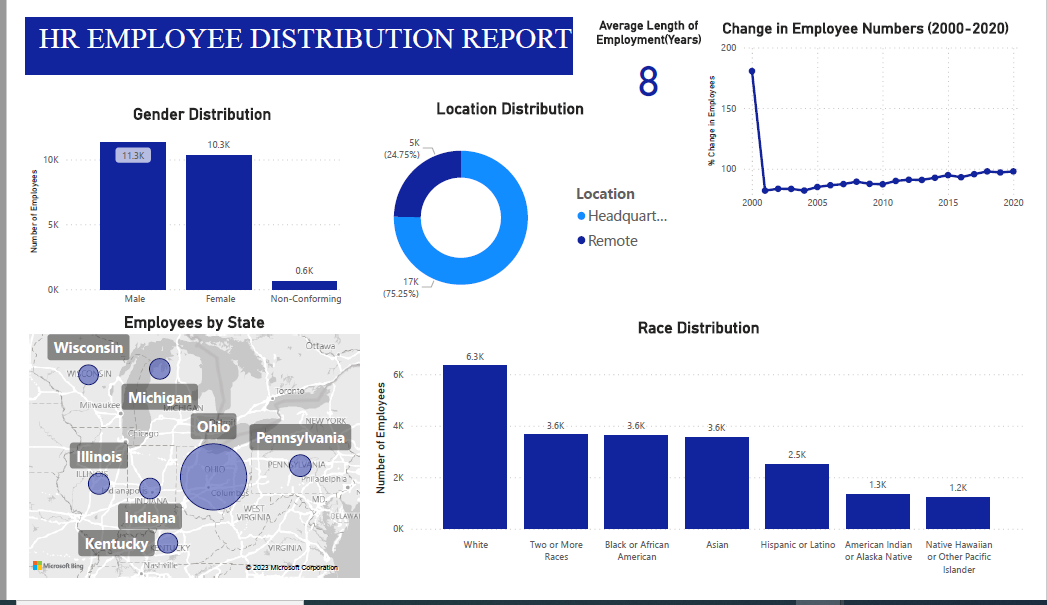

Layout of this report page (visuals, bound fields, positions):
{"tool":"powerbi","page":{"name":"Page 1","canvas":[1280,720],"ordinal":0},"visuals":[{"type":"textbox","box":[0,0,714.7,72.1],"z":0},{"type":"card","title":"Average Length of Employment(Years)","fields":{"Values":["Sum(avg_length_employment.Column1)"]},"box":[699.6,0,192.9,110.7],"z":1000},{"type":"lineStackedColumnComboChart","title":"Gender Distribution","fields":{"Category":["genderBreakdown.Column1"],"Y":["Sum(genderBreakdown.Column2)"]},"box":[0,110.7,451.3,266.7],"z":2000},{"type":"donutChart","title":"Location Distribution","fields":{"Y":["Sum(Location.Column2)"],"Category":["Location.Column1"]},"box":[404.3,104,429.5,280.2],"z":3000},{"type":"lineChart","title":"Change in Employee Numbers (2000-2020)","fields":{"Category":["Employee_change.Year"],"Y":["Sum(Employee_change.Net_percent)"]},"box":[865.6,1.7,414.4,253.3],"z":4000},{"type":"map","title":"Employees by State","fields":{"Size":["Sum(LocationState.Count)"],"Category":["LocationState.LocationState"]},"box":[0,377.5,431.1,342.2],"z":5000},{"type":"clusteredColumnChart","title":"Race Distribution","fields":{"Category":["Race.Race "],"Y":["Sum(Race.Count)"]},"box":[439.5,384.2,840.5,335.5],"z":5001}]}

Visuals, with their boxes in screenshot pixels (x1, y1, x2, y2), scaled from the page's 1280x720 canvas onto the 1047x605 screenshot:
textbox: box=[0, 0, 585, 61]
"Average Length of Employment(Years)" card: box=[572, 0, 730, 93]
"Gender Distribution" lineStackedColumnComboChart: box=[0, 93, 369, 317]
"Location Distribution" donutChart: box=[331, 87, 682, 323]
"Change in Employee Numbers (2000-2020)" lineChart: box=[708, 1, 1046, 214]
"Employees by State" map: box=[0, 317, 353, 604]
"Race Distribution" clusteredColumnChart: box=[359, 323, 1046, 604]
